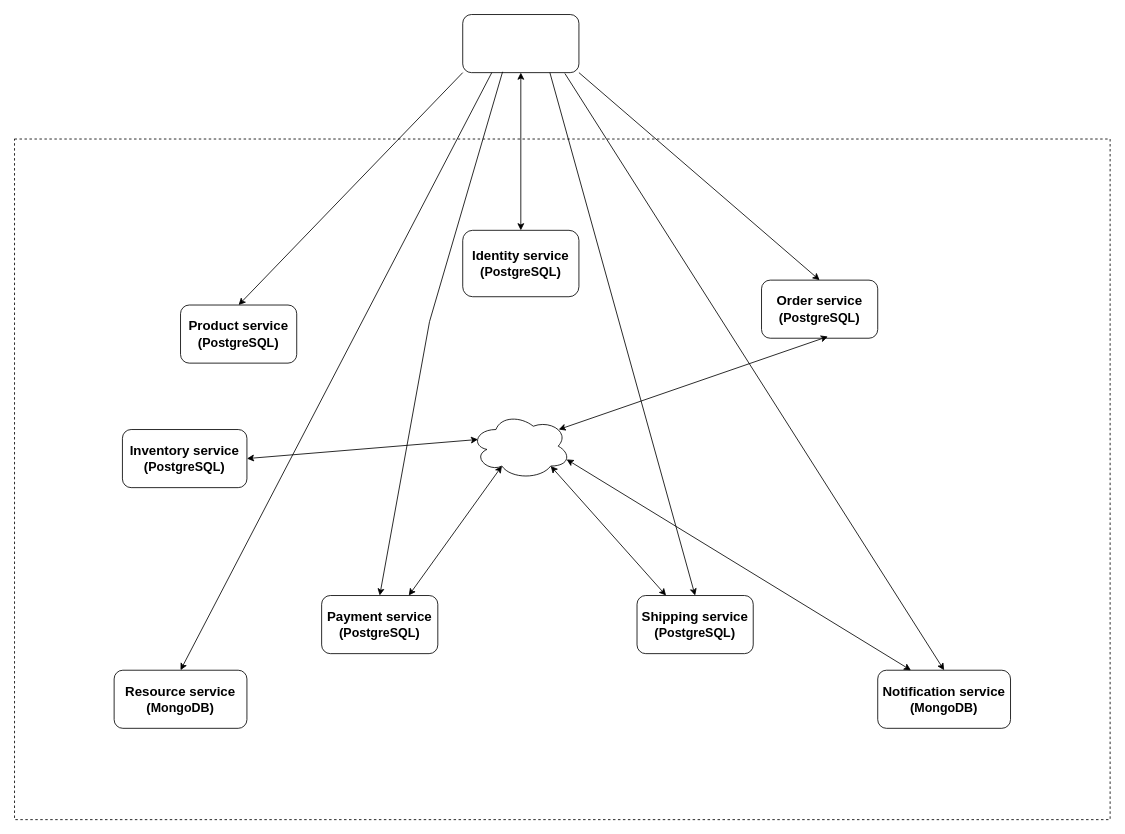
This 1125x834 diagram has some shape labels left out. Each missing label, with the centre of its shape:
Api gateway: pixel 520 43
Kafka: pixel 520 445
